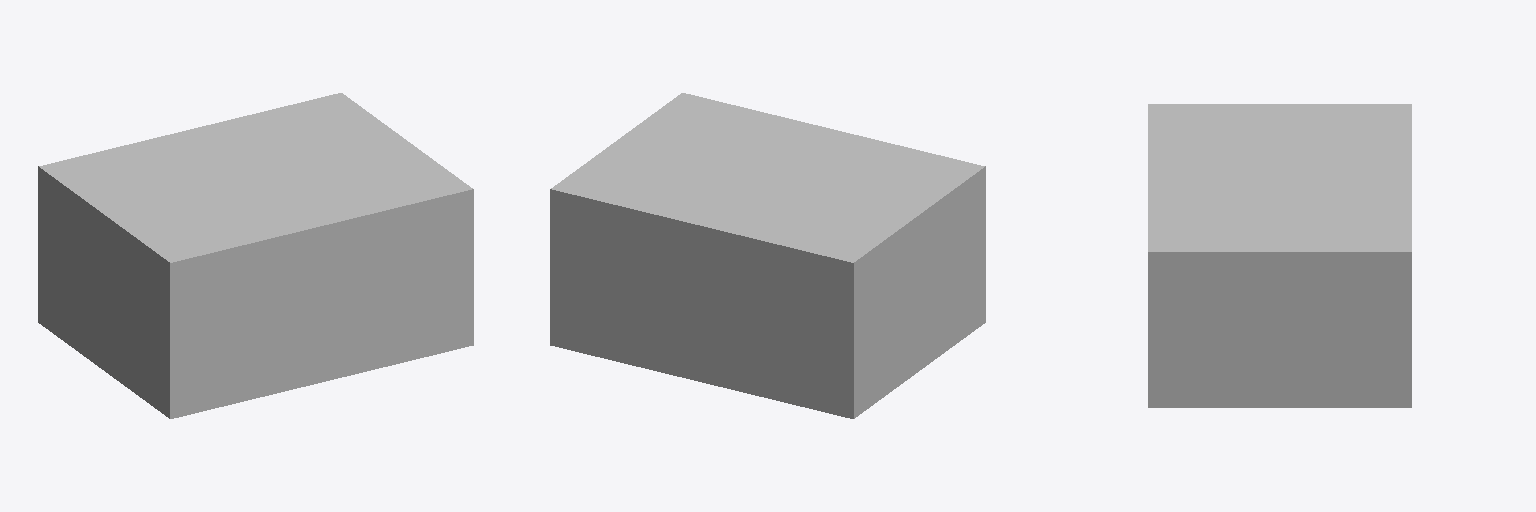
The model's file is Room.obj.
3 views of the same model, side by side, from view 1: azimuth 30°, elevation 25°; view 2: azimuth 150°, elevation 25°; view 3: azimuth 270°, elevation 25° (orthographic).
Parts seen in each view (by area): view 1: Left_Cube.011, Roof_Cube.009, Back_Cube.008; view 2: Right_Cube.012, Roof_Cube.009, Back_Cube.008; view 3: Front_Cube.007, Roof_Cube.009.
Part boxes in pixels (left/top/right/bottom): Left_Cube.011: left=170, top=189, right=473, bottom=418; Roof_Cube.009: left=39, top=93, right=472, bottom=262; Back_Cube.008: left=38, top=166, right=169, bottom=418; Right_Cube.012: left=550, top=189, right=853, bottom=418; Roof_Cube.009: left=551, top=93, right=984, bottom=262; Back_Cube.008: left=854, top=166, right=985, bottom=418; Front_Cube.007: left=1148, top=252, right=1411, bottom=407; Roof_Cube.009: left=1148, top=104, right=1411, bottom=251.
Size of the model in its own units: 233 by 115 by 175.